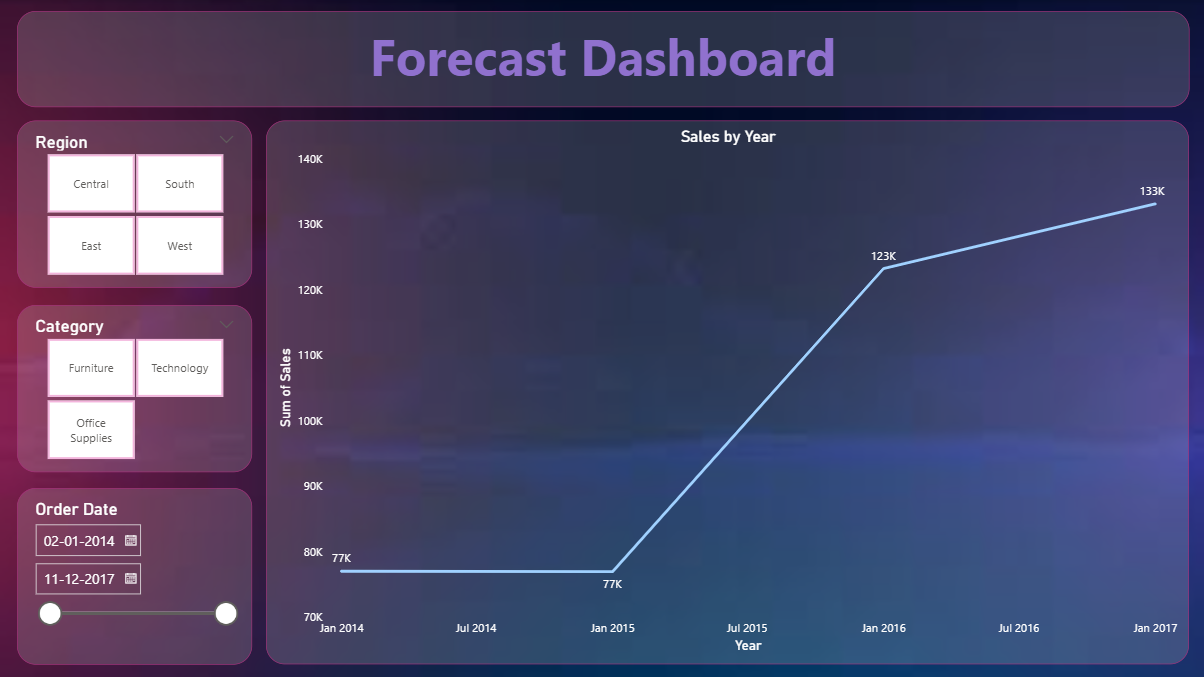

The page's visual inventory and layout, read from the dashboard file:
{"tool":"powerbi","page":{"name":"Page 2","canvas":[1280,720],"ordinal":2},"visuals":[{"type":"textbox","box":[18.9,0,1243.5,92.6],"z":0},{"type":"lineChart","fields":{"Y":["Sum(Superstore.Sales)"],"Category":["Superstore.Order Date.Variation.Date Hierarchy.Year","Superstore.Order Date.Variation.Date Hierarchy.Quarter","Superstore.Order Date.Variation.Date Hierarchy.Month","Superstore.Order Date.Variation.Date Hierarchy.Day"]},"box":[283.5,128.5,978.9,576.4],"z":1000},{"type":"slicer","fields":{"Values":["Superstore.Region"]},"box":[18.9,128.5,236.2,170.1],"z":2000},{"type":"slicer","fields":{"Values":["Superstore.Category"]},"box":[18.9,325,236.2,166.3],"z":3000},{"type":"slicer","fields":{"Values":["Superstore.Order Date"]},"box":[18.9,517.8,236.2,187.1],"z":4000}]}

Visuals, with their boxes in screenshot pixels (x1, y1, x2, y2), scaled from the page's 1280x720 canvas onto the 1204x677 screenshot:
textbox: {"left": 18, "top": 0, "right": 1187, "bottom": 87}
lineChart - Sum(Superstore.Sales) x Superstore.Order Date.Variation.Date Hierarchy.Year: {"left": 267, "top": 121, "right": 1187, "bottom": 663}
slicer - Superstore.Region: {"left": 18, "top": 121, "right": 240, "bottom": 281}
slicer - Superstore.Category: {"left": 18, "top": 306, "right": 240, "bottom": 462}
slicer - Superstore.Order Date: {"left": 18, "top": 487, "right": 240, "bottom": 663}
